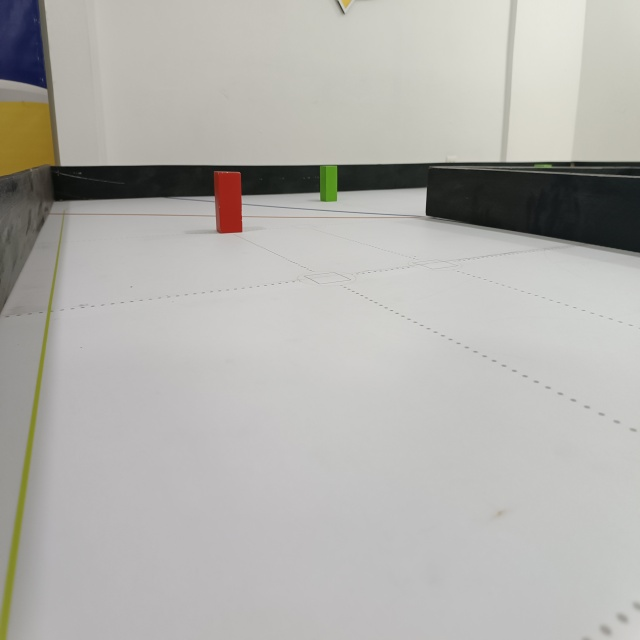blue line: (167, 193, 425, 219)
green rectangular prism: (318, 166, 343, 203)
orange line: (39, 206, 428, 224)
red rectangular prism: (210, 169, 248, 236)
